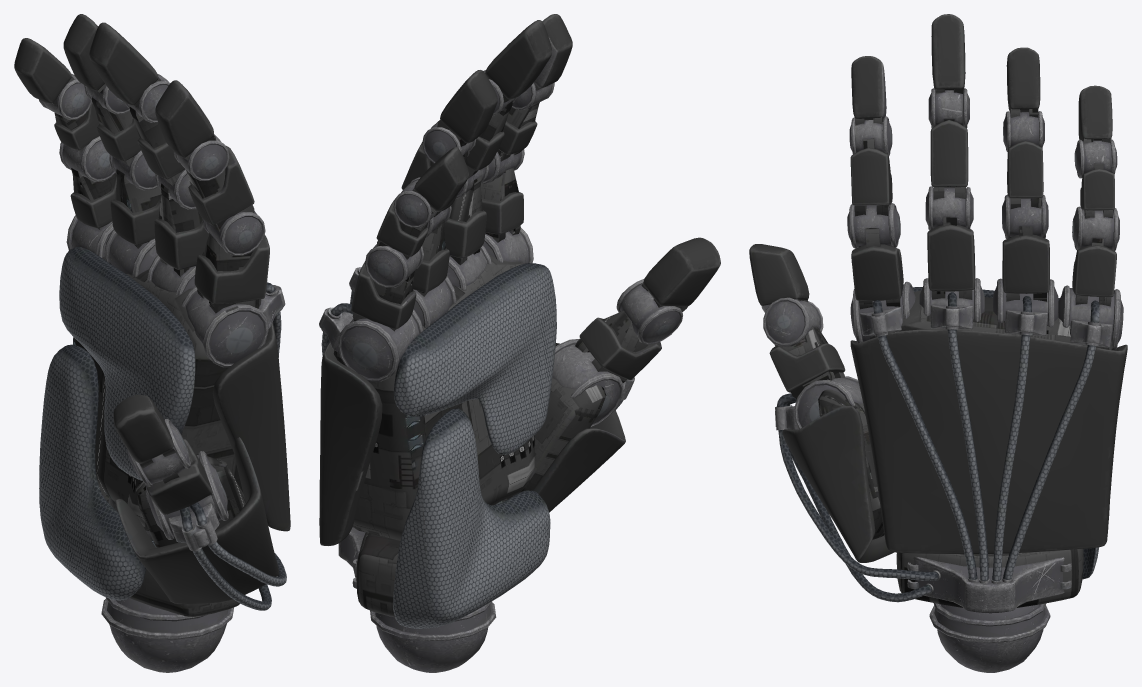
Rendered from robotic_hand-transformed.glb.
3 views of the same model, side by side, from view 1: azimuth 30°, elevation 25°; view 2: azimuth 150°, elevation 25°; view 3: azimuth 270°, elevation 25° (orthographic). The views are drawn at different scales.
Visible parts, largest first — view 1: polySurface33_covers_0, pCube19_Index_0, pSphere2_Hand_0, pCube21_Middle_0, polySurface1_Thumb_0, pCube24_Pinky_0, pCube22_Ring_0; view 2: polySurface33_covers_0, pSphere2_Hand_0, polySurface1_Thumb_0, pCube24_Pinky_0, pCube21_Middle_0, pCube19_Index_0, pCube22_Ring_0; view 3: polySurface33_covers_0, pCube21_Middle_0, pCube19_Index_0, pCube22_Ring_0, polySurface1_Thumb_0, pSphere2_Hand_0, pCube24_Pinky_0.
Boxes of the visible parts, x1=… form: polySurface33_covers_0: x1=39, y1=247, x2=290, y2=610; pCube19_Index_0: x1=155, y1=80, x2=269, y2=367; pSphere2_Hand_0: x1=73, y1=257, x2=245, y2=672; pCube21_Middle_0: x1=89, y1=22, x2=209, y2=295; polySurface1_Thumb_0: x1=113, y1=395, x2=246, y2=547; pCube24_Pinky_0: x1=14, y1=38, x2=116, y2=257; pCube22_Ring_0: x1=63, y1=14, x2=161, y2=277; polySurface33_covers_0: x1=319, y1=263, x2=634, y2=628; pSphere2_Hand_0: x1=333, y1=254, x2=534, y2=672; polySurface1_Thumb_0: x1=506, y1=237, x2=720, y2=499; pCube24_Pinky_0: x1=338, y1=147, x2=468, y2=381; pCube21_Middle_0: x1=444, y1=20, x2=551, y2=290; pCube19_Index_0: x1=480, y1=14, x2=572, y2=263; pCube22_Ring_0: x1=401, y1=70, x2=497, y2=328; polySurface33_covers_0: x1=775, y1=287, x2=1127, y2=613; pCube21_Middle_0: x1=919, y1=14, x2=984, y2=321; pCube19_Index_0: x1=847, y1=56, x2=915, y2=343; pCube22_Ring_0: x1=993, y1=47, x2=1058, y2=327; polySurface1_Thumb_0: x1=749, y1=244, x2=884, y2=539; pSphere2_Hand_0: x1=870, y1=290, x2=1113, y2=672; pCube24_Pinky_0: x1=1058, y1=85, x2=1123, y2=350.
Size of the model in its own units: 0.0612 by 0.1482 by 0.0825.
8 materials, 8 textured.
